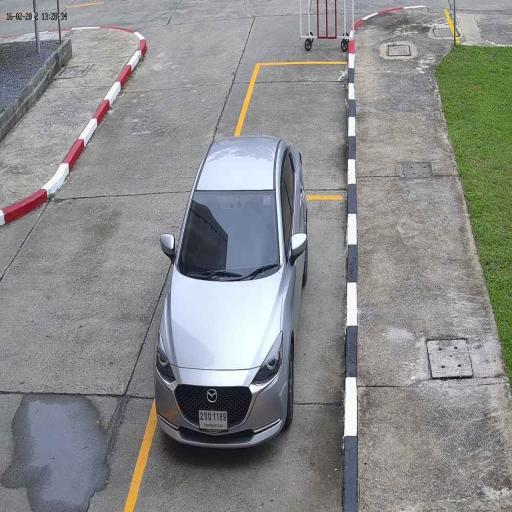car: (152, 134, 311, 460)
